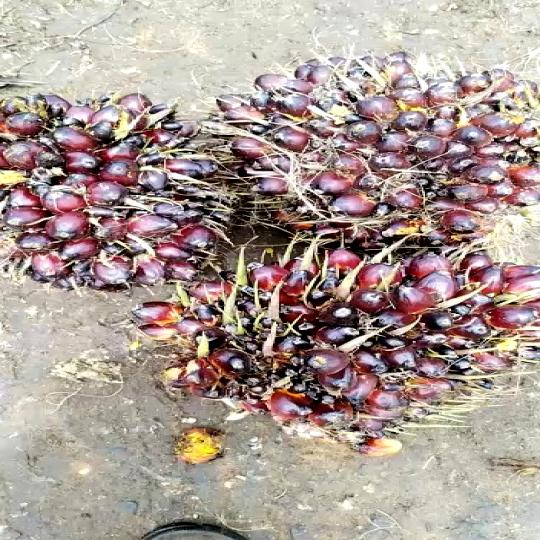kurang masak: (183, 228, 516, 461), (207, 44, 540, 270), (0, 81, 221, 271)
